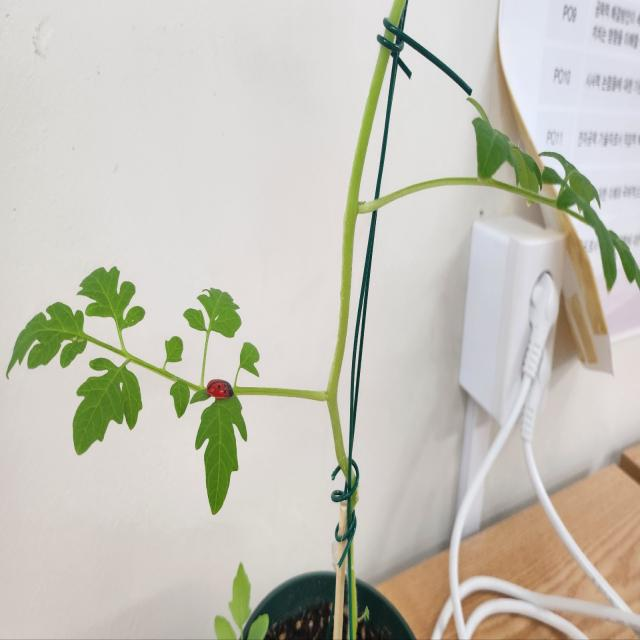bug: (197, 367, 241, 412)
